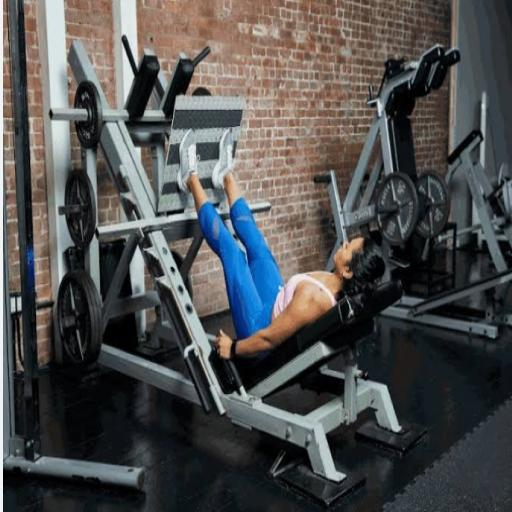Leg Press: (72, 45, 355, 436)
